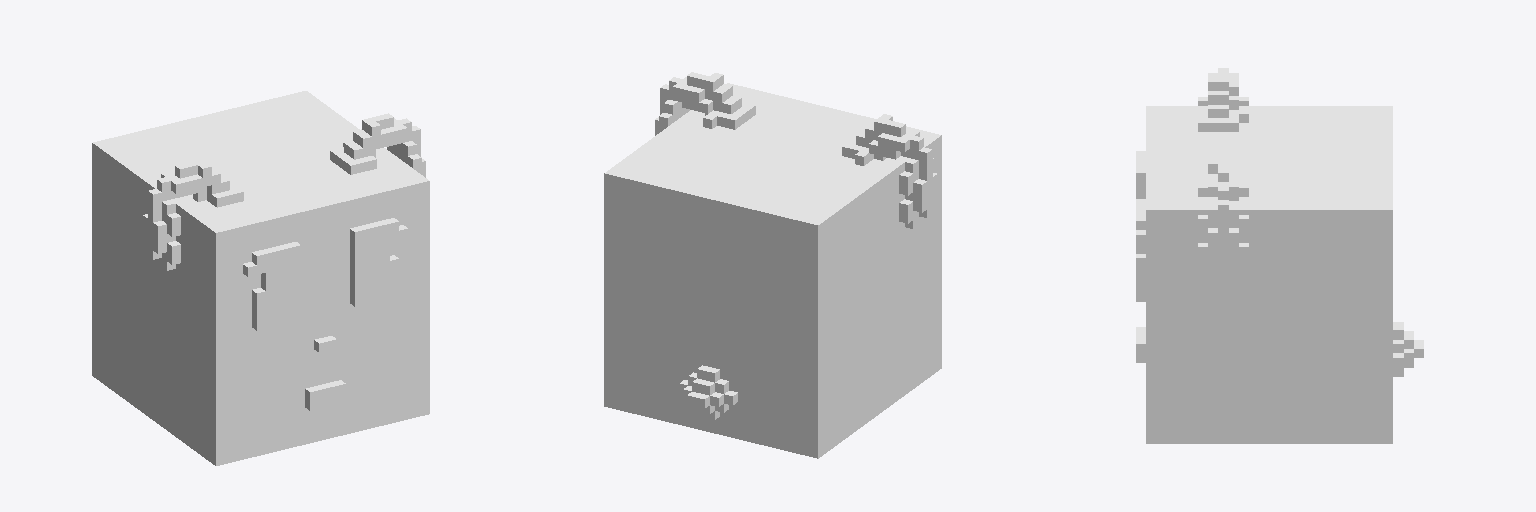
Rendered from Bunny.obj.
3 renders of one model, left to right at view 1: azimuth 30°, elevation 25°; view 2: azimuth 150°, elevation 25°; view 3: azimuth 270°, elevation 25°, orthographic.
Visible parts, largest first — view 1: object 1; view 2: object 1; view 3: object 1.
Boxes of the visible parts, box(x1,y1,x2,y2) form: object 1: box(92, 91, 429, 465); object 1: box(604, 72, 941, 458); object 1: box(1136, 68, 1423, 443).
Size of the model in its own units: 3 by 2.9 by 2.8.